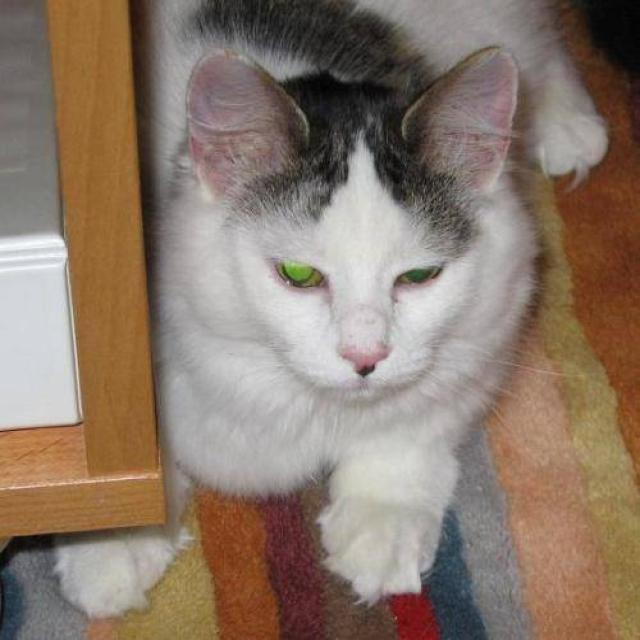cat: (50, 0, 605, 621)
